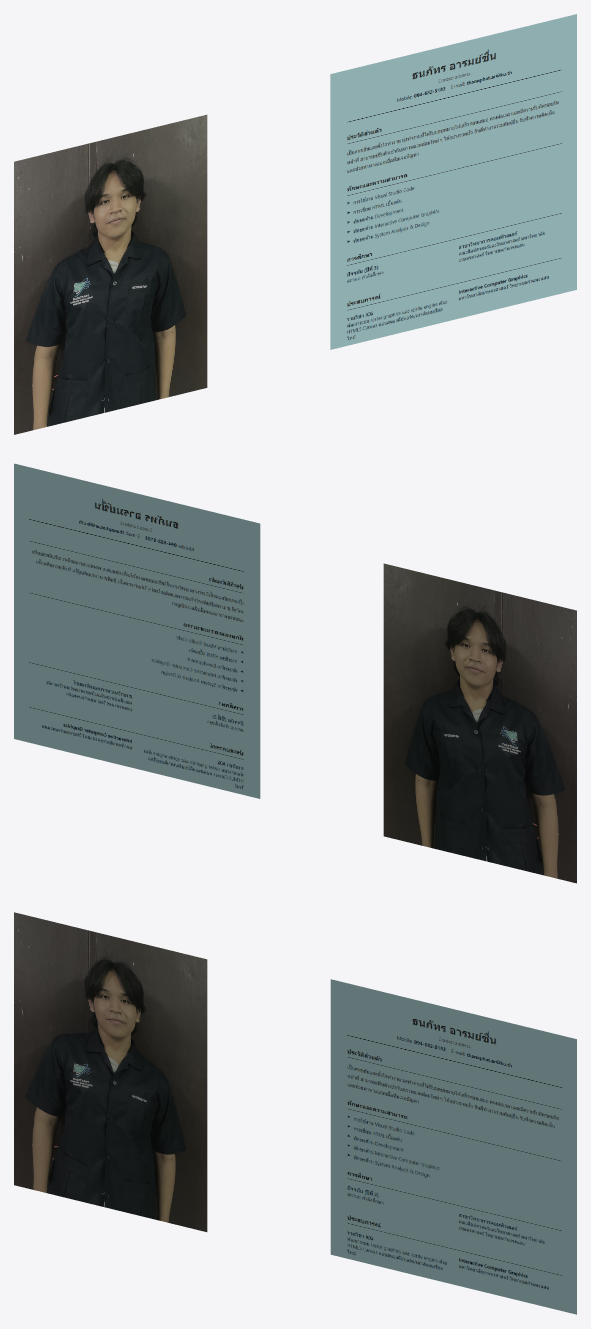
File: Picture.glb
3 renders of one model, top to bottom at view 1: azimuth 30°, elevation 25°; view 2: azimuth 150°, elevation 25°; view 3: azimuth 330°, elevation 25°, orthographic.
Parts seen in each view (by area): view 1: Screenshot 2026-09-29 212101, ME; view 2: Screenshot 2026-09-29 212101, ME; view 3: Screenshot 2026-09-29 212101, ME.
Part boxes in pixels (<box>): Screenshot 2026-09-29 212101: <box>330,14,576,349</box>; ME: <box>14,114,207,434</box>; Screenshot 2026-09-29 212101: <box>14,463,260,798</box>; ME: <box>383,563,576,883</box>; Screenshot 2026-09-29 212101: <box>330,979,576,1314</box>; ME: <box>14,912,207,1231</box>.
Bounding box in the file's own units: 5.23 × 2.51 × 0.005.
Materials: 2 (2 with a texture image).
